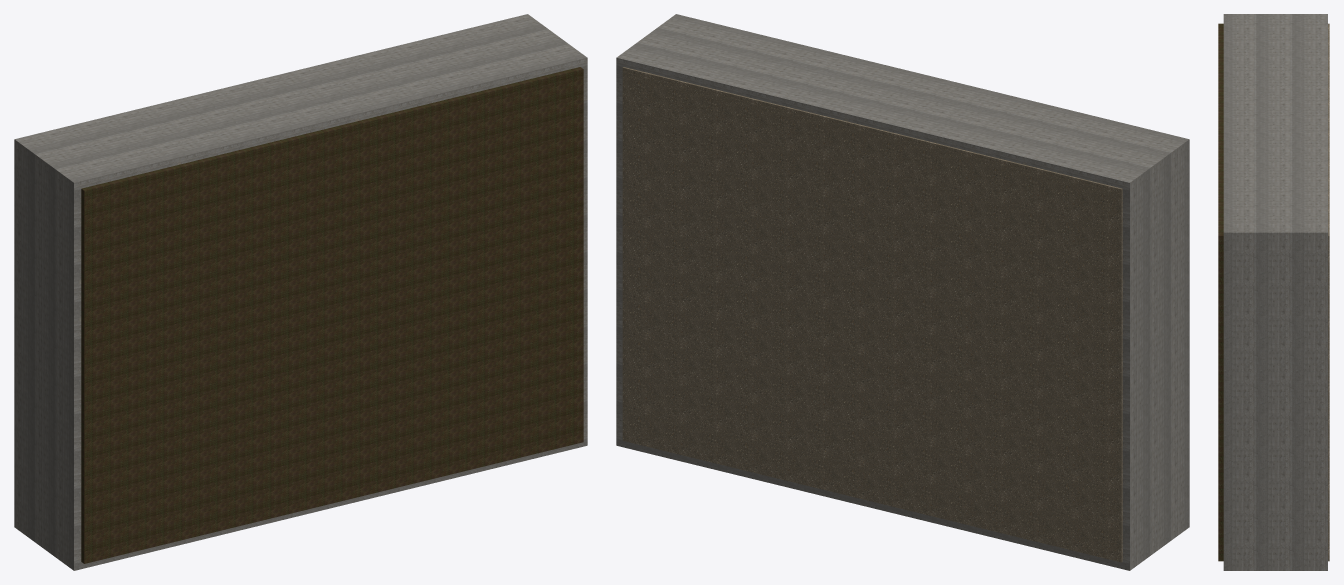
File: lab.glb
3 renders of one model, left to right at view 1: azimuth 30°, elevation 25°; view 2: azimuth 150°, elevation 25°; view 3: azimuth 270°, elevation 25°, orthographic. The views are drawn at different scales.
Parts seen in each view (by area): view 1: lab_steel, lab_wall_out; view 2: lab_floor, lab_wall_out; view 3: lab_wall_out, lab_steel, lab_floor.
Boxes of the visible parts, x1,y1,x2,y2 form: lab_steel: (81,67,583,563); lab_wall_out: (14,14,587,570); lab_floor: (622,67,1122,562); lab_wall_out: (616,14,1189,570); lab_wall_out: (1223,14,1327,570); lab_steel: (1218,23,1223,561); lab_floor: (1328,23,1329,561).
Bounding box in the file's own units: 28.8 × 20.8 × 6.2.
Materials: 39 (8 with a texture image).
